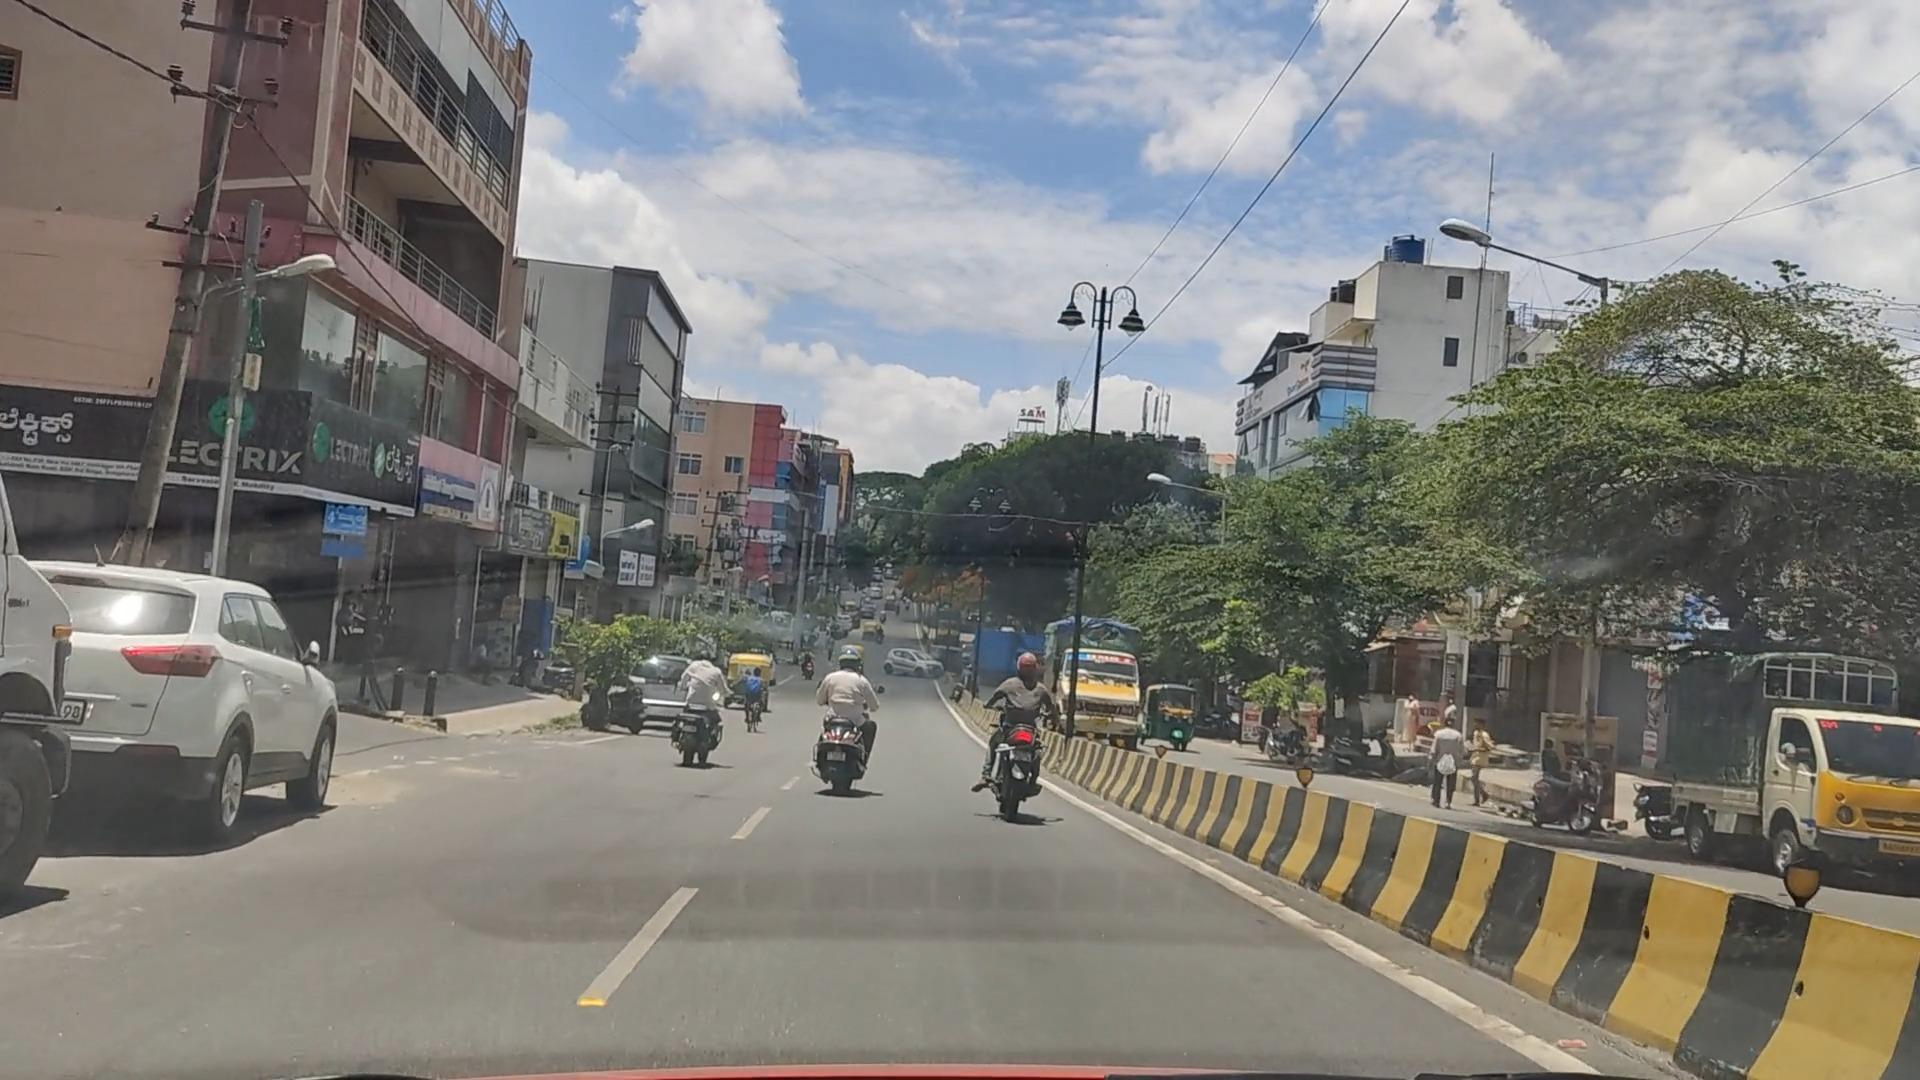LMV: (61, 558, 361, 852), (948, 650, 1081, 835), (658, 641, 744, 778), (820, 636, 880, 800)
